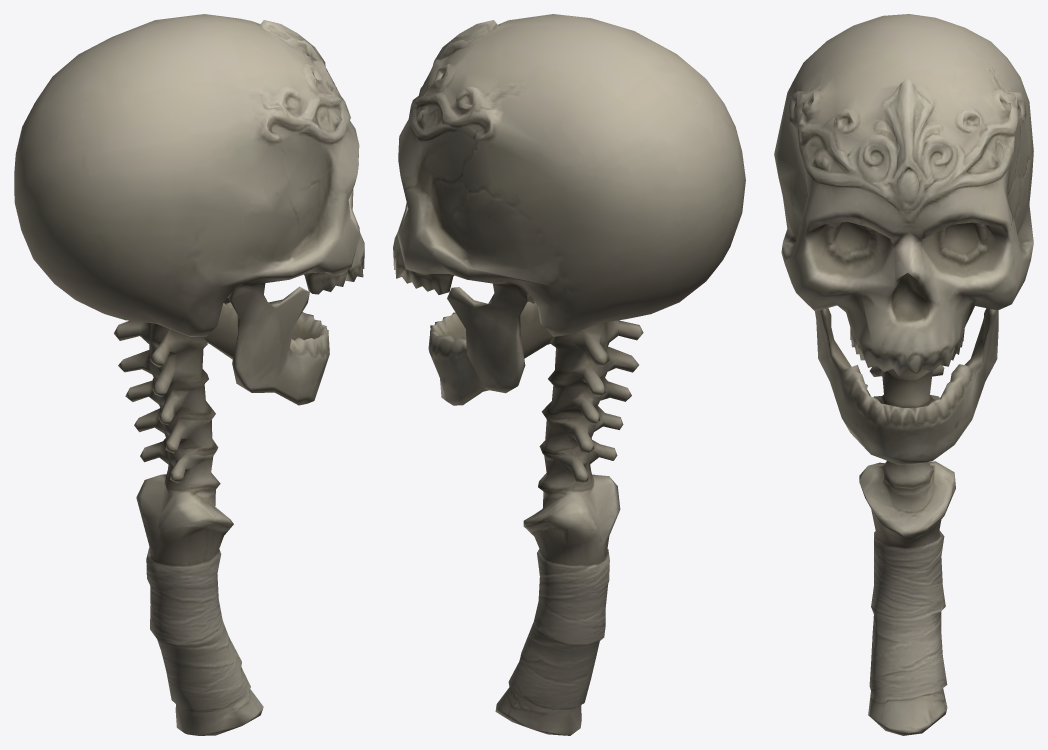
The model's file is gear_skull_focus.glb.
3 renders of one model, left to right at view 1: azimuth 30°, elevation 25°; view 2: azimuth 150°, elevation 25°; view 3: azimuth 270°, elevation 25°, orthographic. The views are drawn at different scales.
Visible parts, largest first — view 1: tripo_node_febc5316-a66e-4eb1-873c-7b6ef978fb09; view 2: tripo_node_febc5316-a66e-4eb1-873c-7b6ef978fb09; view 3: tripo_node_febc5316-a66e-4eb1-873c-7b6ef978fb09.
Part boxes in pixels (x1=…): tripo_node_febc5316-a66e-4eb1-873c-7b6ef978fb09: x1=14, y1=14, x2=364, y2=735; tripo_node_febc5316-a66e-4eb1-873c-7b6ef978fb09: x1=393, y1=14, x2=745, y2=735; tripo_node_febc5316-a66e-4eb1-873c-7b6ef978fb09: x1=774, y1=14, x2=1033, y2=735.
Bounding box in the file's own units: 0.2127 × 0.44 × 0.1524.
1 material, 1 textured.
